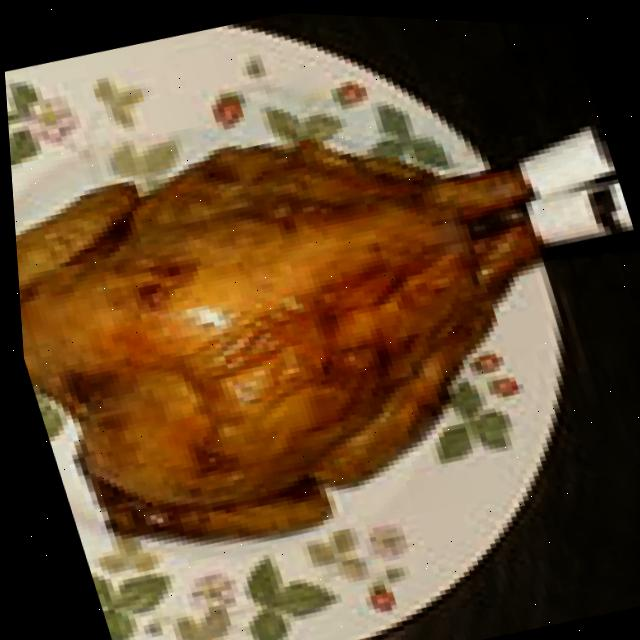鸡肉料理 含炸鸡: (0, 0, 614, 296)
